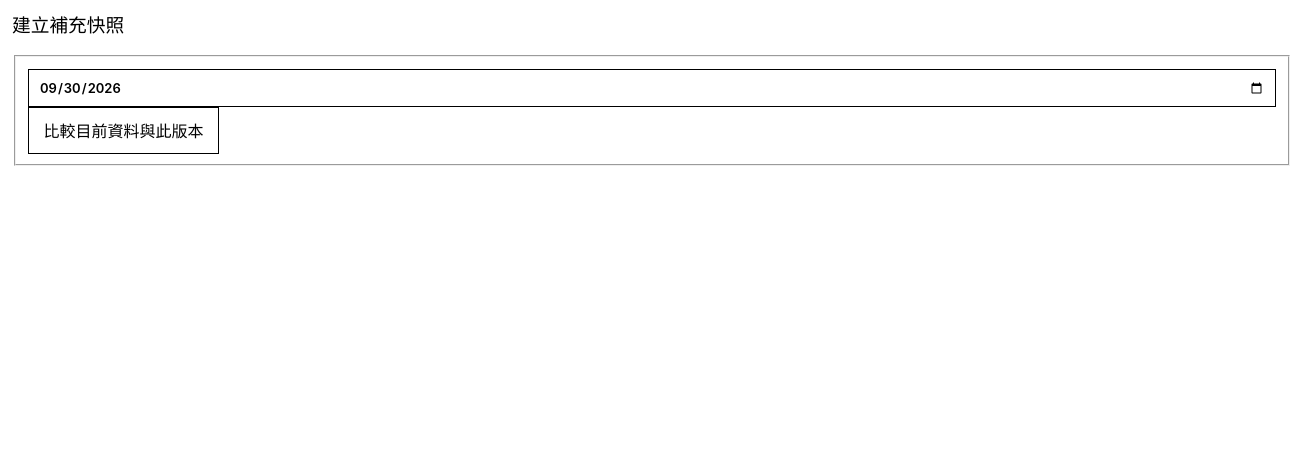
Test: Append-only accounting supplement approval › invalidates review when the supplemental accounting date changes
Submit the form, box [12,55,1292,166]
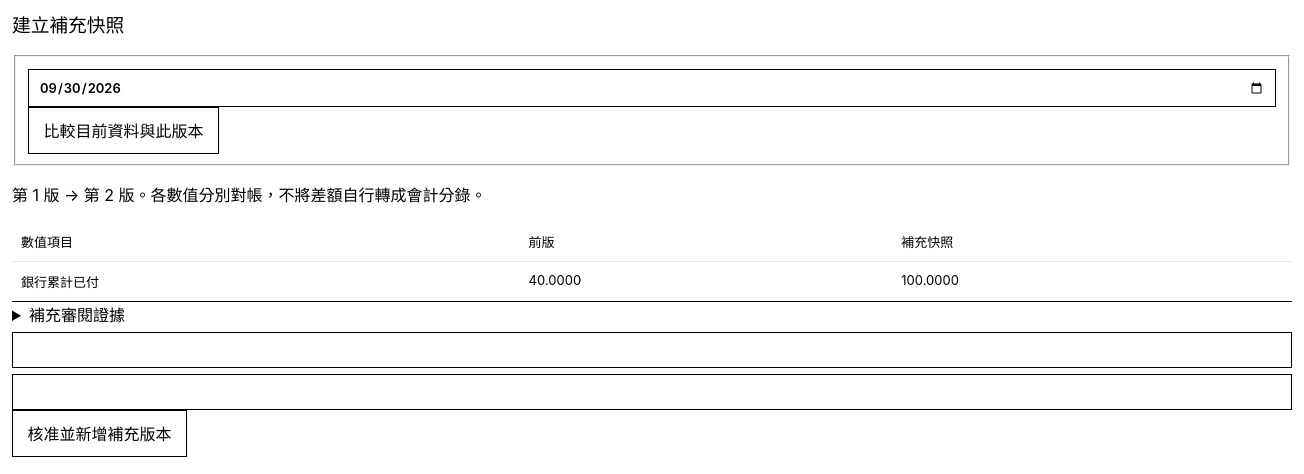
Type "2026-10-01" into the date field at (652, 88), box [28,69,1276,107]
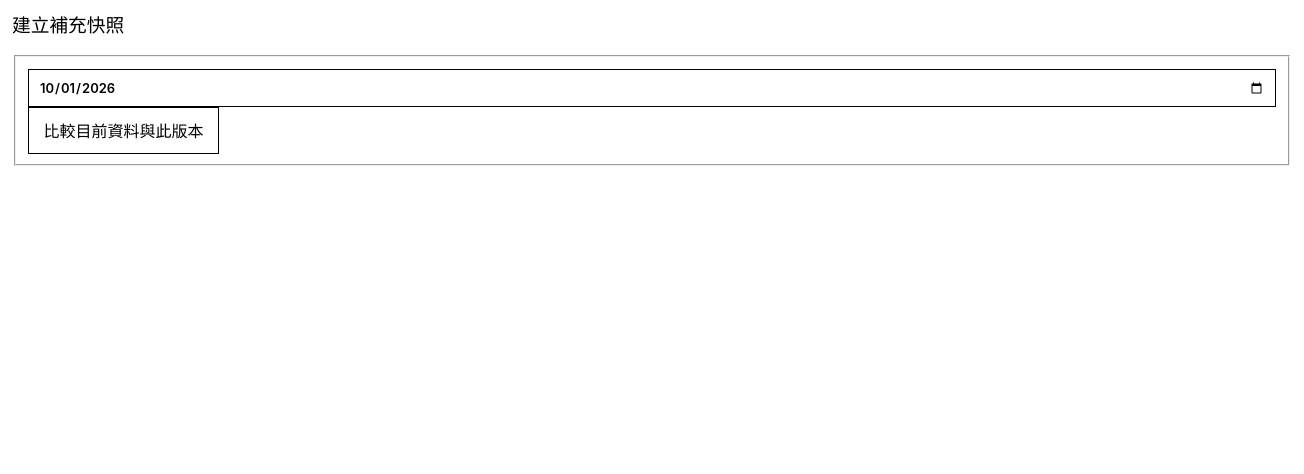
Expected: the number of forms is 1, [12,55,1292,166]
